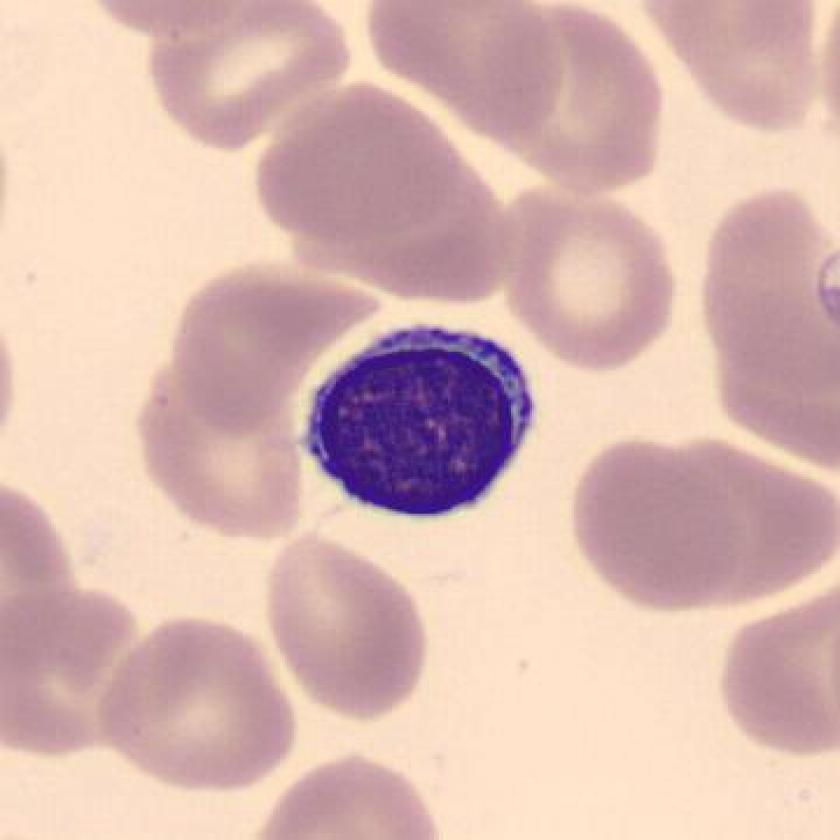lymphocyte: (286, 302, 552, 542)
